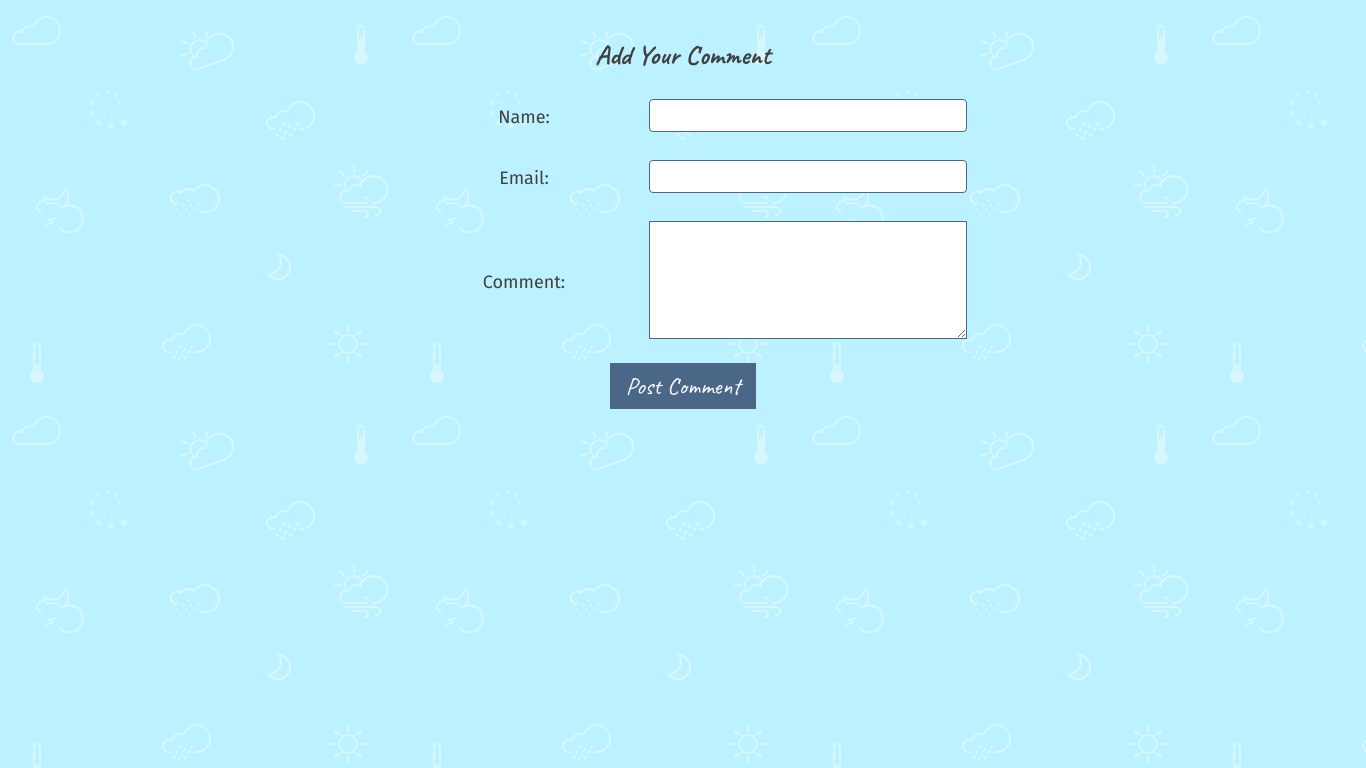
Test case: AddComment › shows the server-provided error message when the API reports failure
Step 1. Type "Jane Doe" into the field labelled "Name:" → (808,115), box [649, 99, 967, 132]
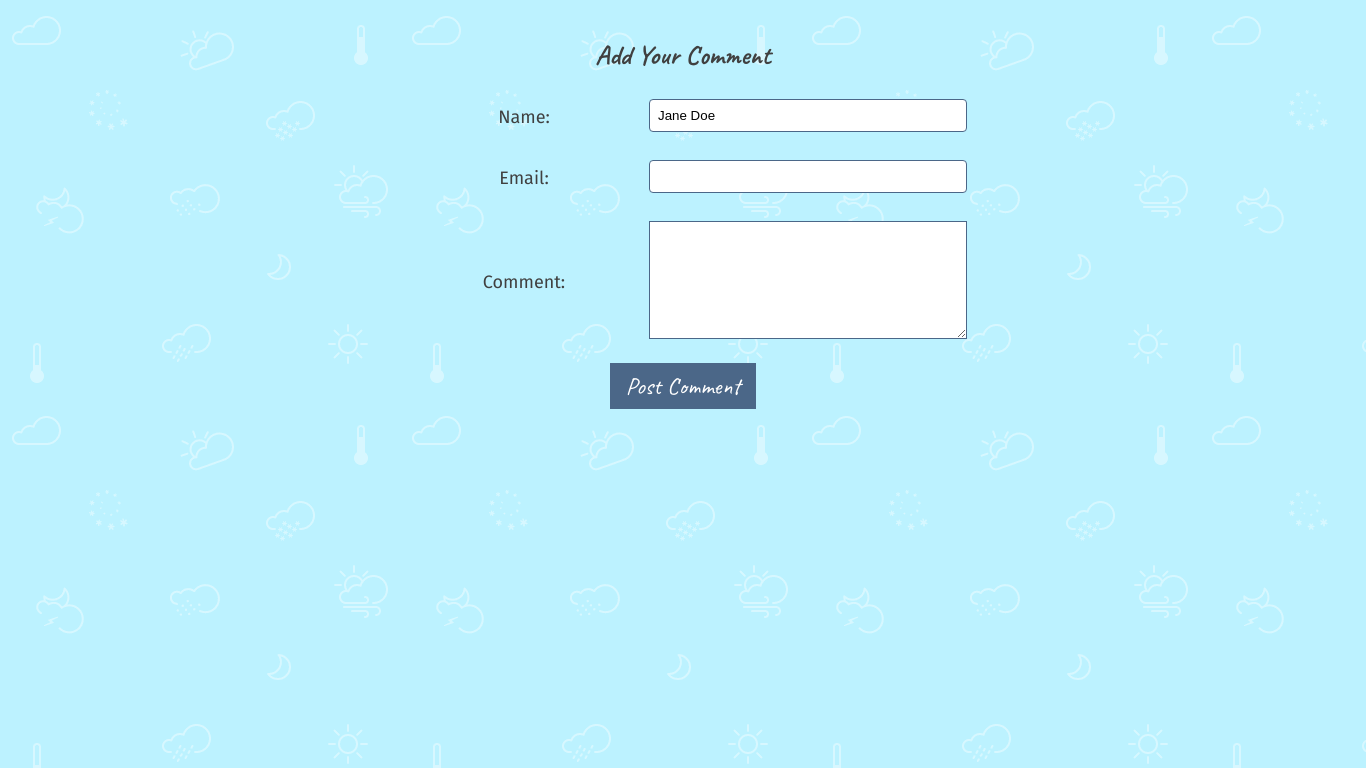
Step 2. Type "jane@example.com" into the field labelled "Email:" → (808,176), box [649, 160, 967, 193]
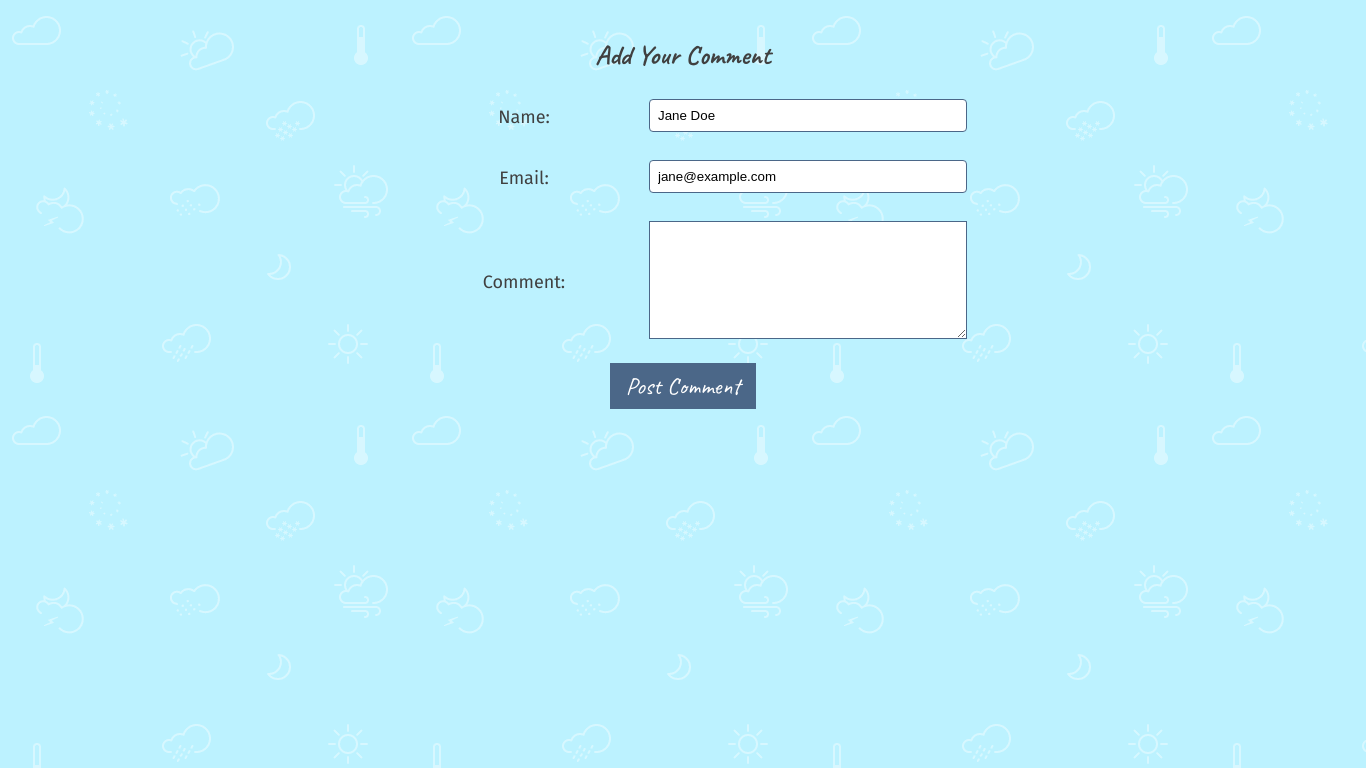
Step 3. Type "Great forecast!" into the text box labelled "Comment:" → (808,280), box [649, 221, 967, 339]
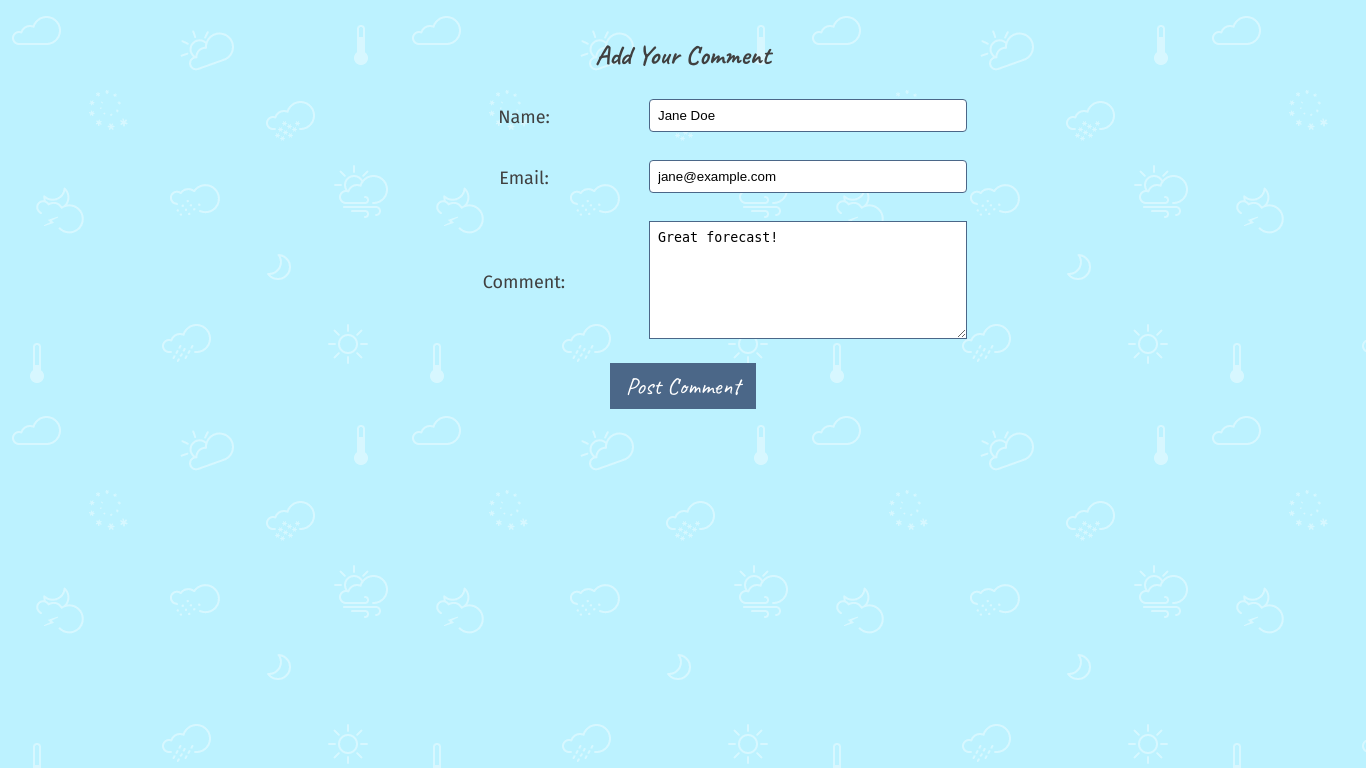
Step 4. Click the button "Post Comment" → (683,386), box [610, 363, 756, 409]
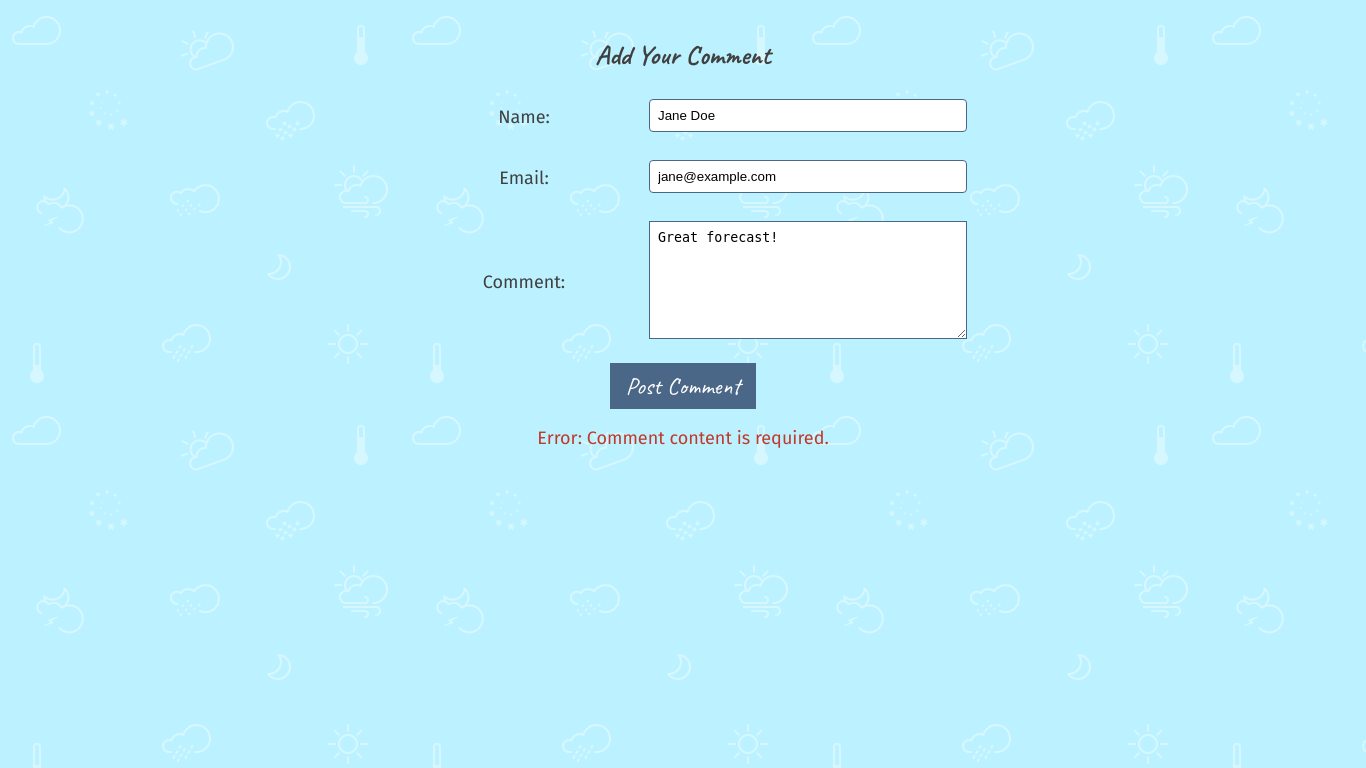
Check: the message reads "Comment content is required.", box [587, 427, 829, 449]
